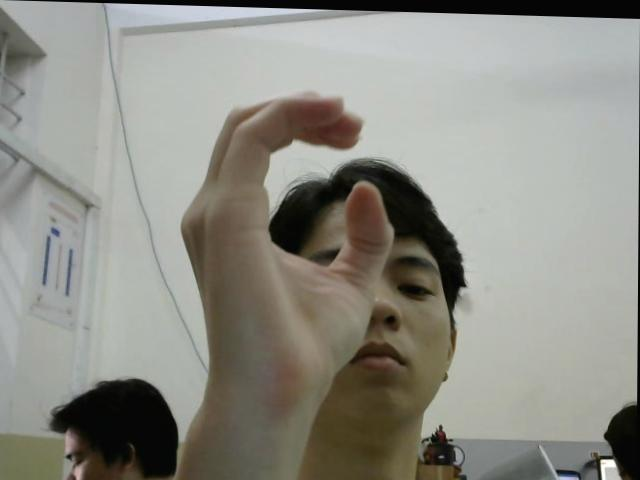C: (175, 82, 399, 404)
